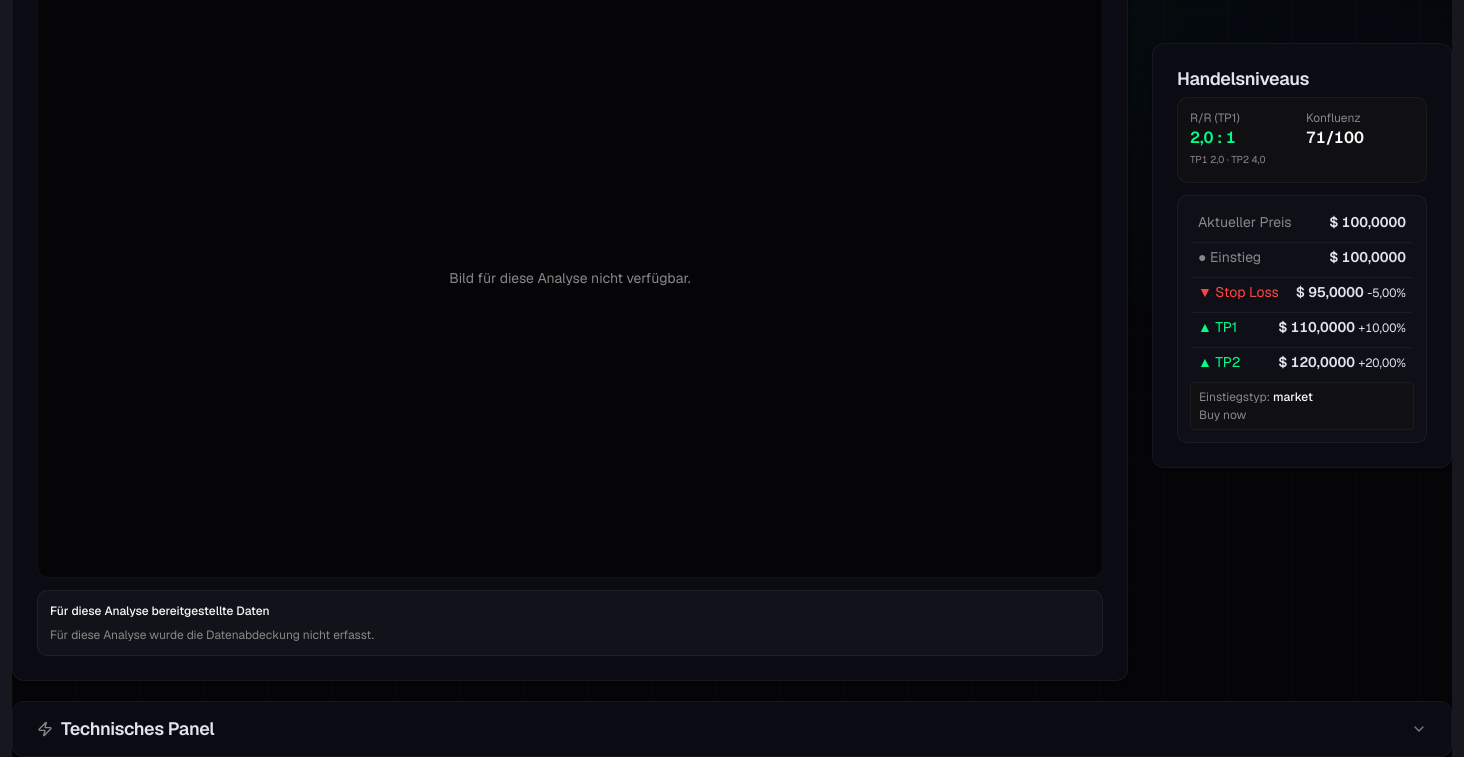
Test case: C1 technical evidence caution presentation › keeps caution distinct from failure in de
(page scrolled)
Step 1. Click the button "Technisches Panel" → [138, 728], box left=13, top=702, right=1451, bottom=756
(page scrolled)
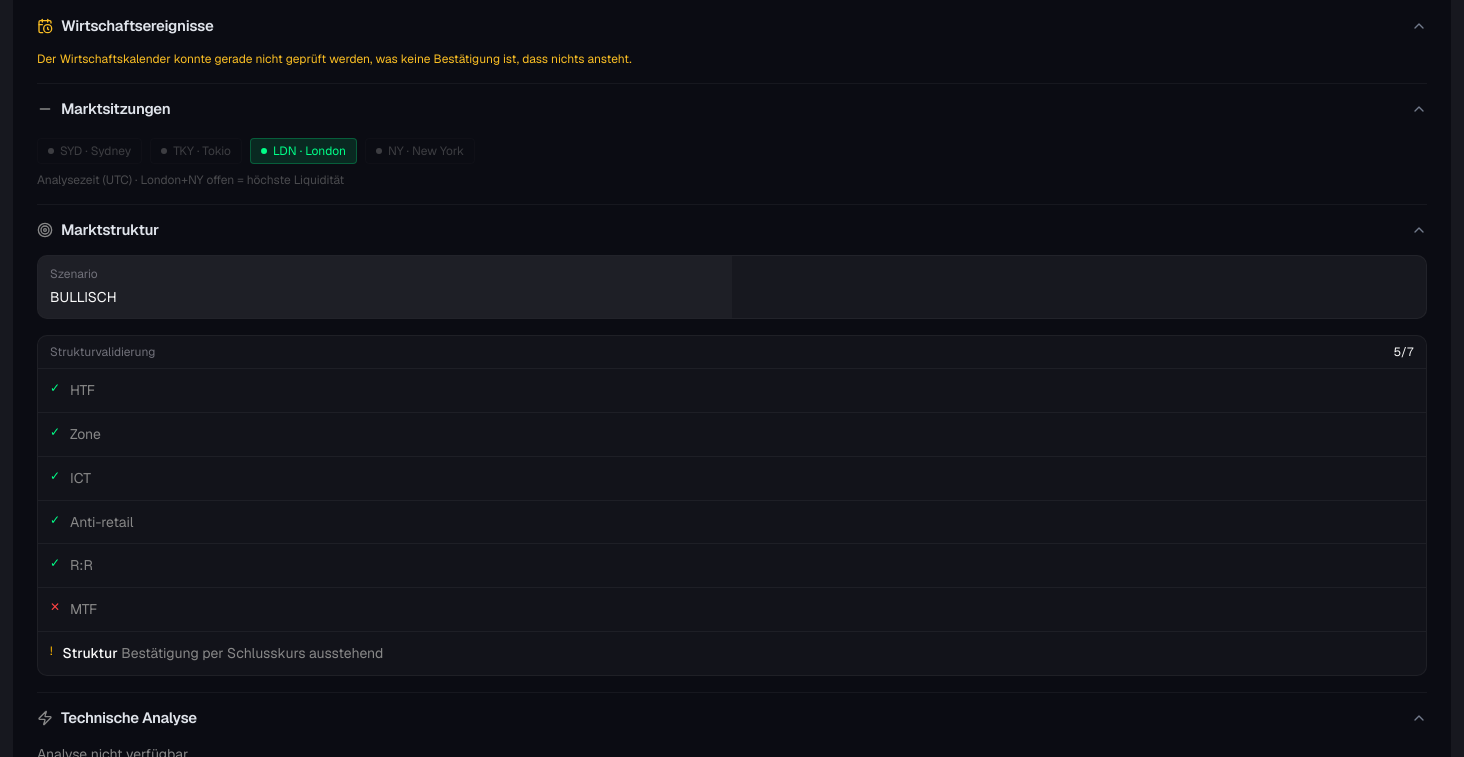
Expected: the text "!" is shown, left=50, top=643, right=53, bottom=659
Expected: the text "5/7" is shown, left=1394, top=344, right=1414, bottom=360
